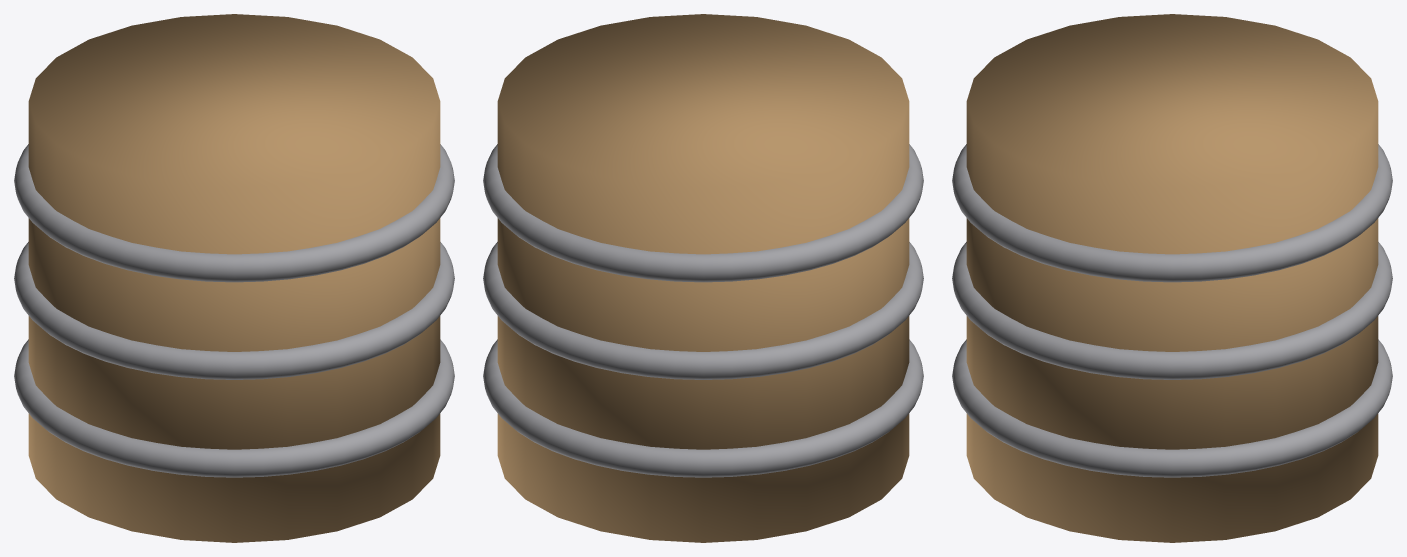
Rendered from barrel.glb.
The picture shows the model from 3 angles, left to right: view 1: azimuth 30°, elevation 25°; view 2: azimuth 150°, elevation 25°; view 3: azimuth 270°, elevation 25°; orthographic projection.
Parts seen in each view (by area): view 1: Cylinder; view 2: Cylinder; view 3: Cylinder.
Part boxes in pixels (bbox=[...]): Cylinder: bbox=[14, 14, 454, 542]; Cylinder: bbox=[483, 14, 923, 542]; Cylinder: bbox=[952, 14, 1392, 542].
Bounding box in the file's own units: 0.9 × 0.8 × 0.9.
